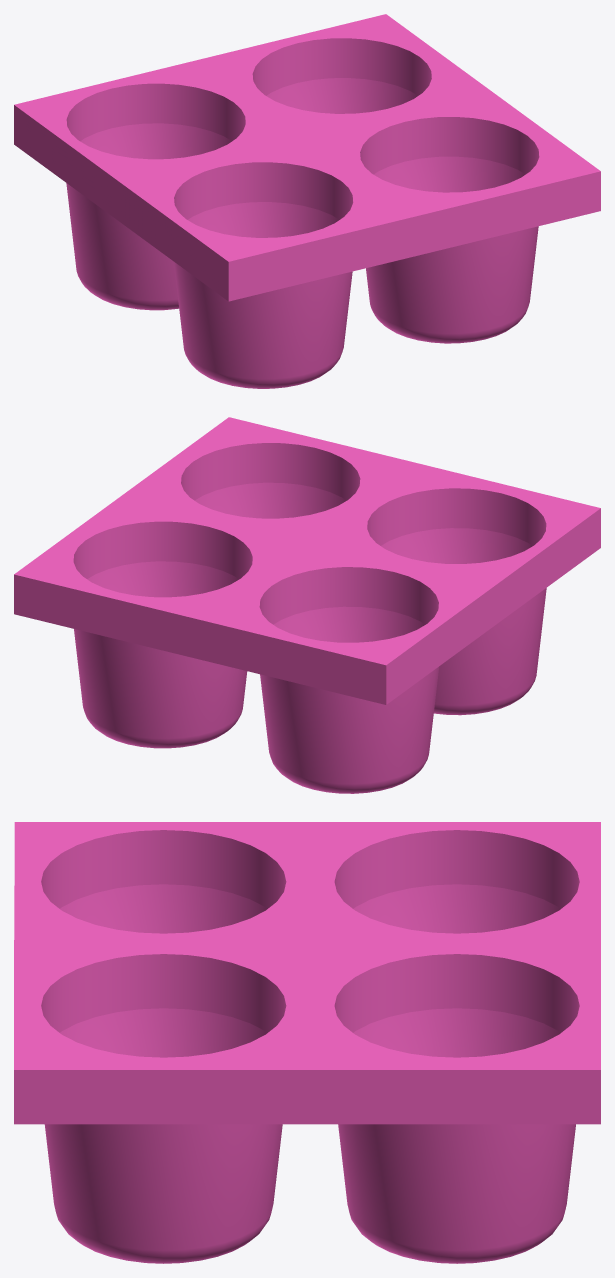
Rendered from Cupcake Tray Sort - Tray 3.fbx.
3 views of the same model, one above another, from view 1: azimuth 30°, elevation 25°; view 2: azimuth 150°, elevation 25°; view 3: azimuth 270°, elevation 25° (orthographic). The views are drawn at different scales.
Parts seen in each view (by area): view 1: tray 3; view 2: tray 3; view 3: tray 3.
Part boxes in pixels (<box>): tray 3: <box>14,14,600,388</box>; tray 3: <box>14,417,600,793</box>; tray 3: <box>14,822,600,1263</box>.
Size of the model in its own units: 0.098 by 0.098 by 0.0408.
